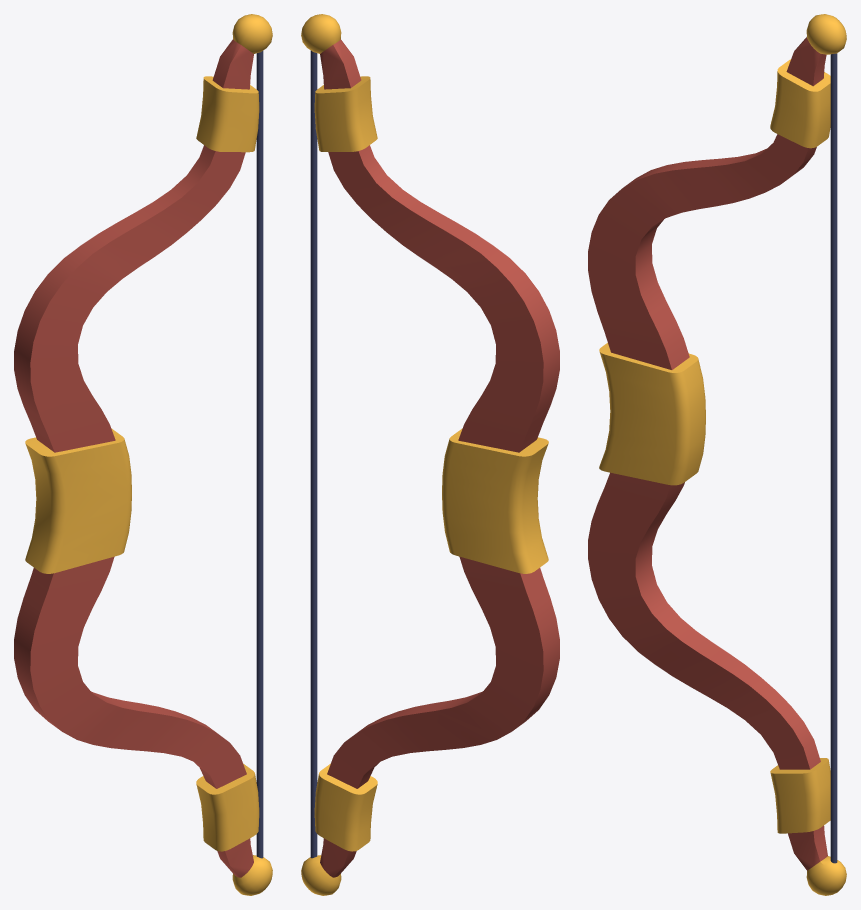
File: Bow B Multi.fbx
3 views of the same model, side by side, from view 1: azimuth 30°, elevation 25°; view 2: azimuth 150°, elevation 25°; view 3: azimuth 330°, elevation 25° (orthographic).
Parts seen in each view (by area): view 1: Bow B; view 2: Bow B; view 3: Bow B.
Boxes of the visible parts, box(x1,y1,x2,y2) form: Bow B: box(14, 14, 272, 895); Bow B: box(301, 14, 559, 895); Bow B: box(588, 14, 846, 895).
Size of the model in its own units: 0.6038 by 2.04 by 0.103.
